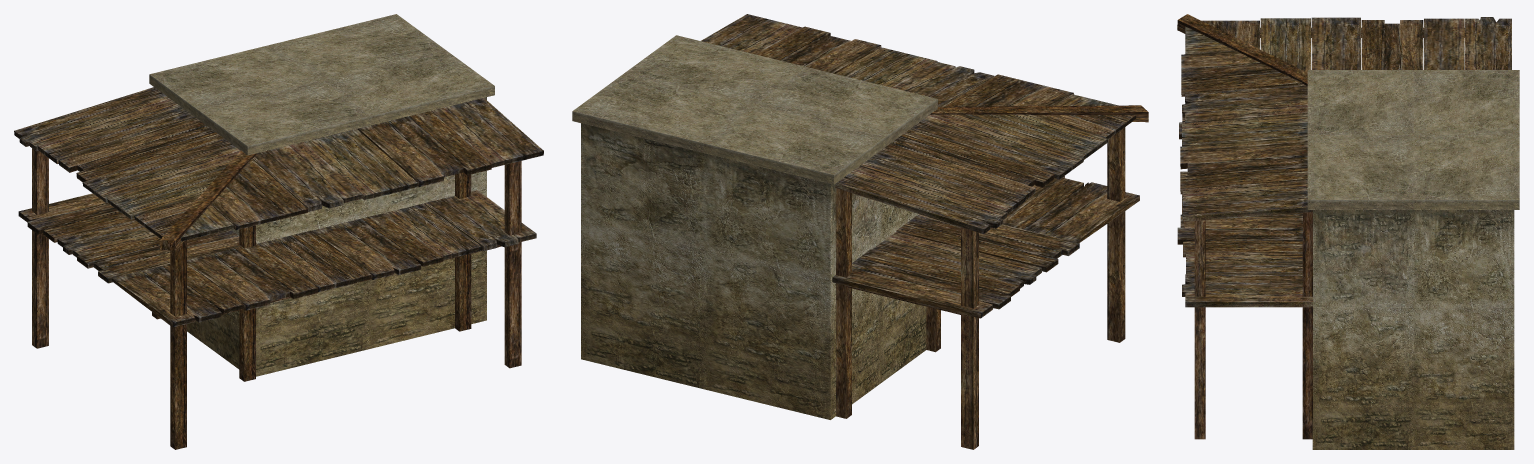
File: hrt_house1.glb
The picture shows the model from 3 angles, left to right: view 1: azimuth 30°, elevation 25°; view 2: azimuth 150°, elevation 25°; view 3: azimuth 270°, elevation 25°; orthographic projection. The views are drawn at different scales.
Parts seen in each view (by area): view 1: hrt_house1; view 2: hrt_house1; view 3: hrt_house1.
Part boxes in pixels (x1=…): hrt_house1: x1=14, y1=14, x2=543, y2=449; hrt_house1: x1=572, y1=14, x2=1148, y2=449; hrt_house1: x1=1177, y1=14, x2=1519, y2=449.
Size of the model in its own units: 13.24 by 7.6 by 9.31.
11 materials, 11 textured.
